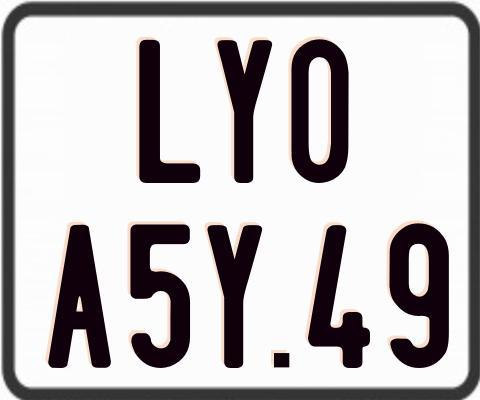0: (290, 37, 354, 184)
4: (305, 223, 369, 367)
5: (129, 222, 194, 369)
9: (388, 222, 449, 369)
A: (48, 223, 111, 366)
L: (139, 40, 203, 188)
Y: (206, 222, 267, 367), (216, 39, 273, 184)
